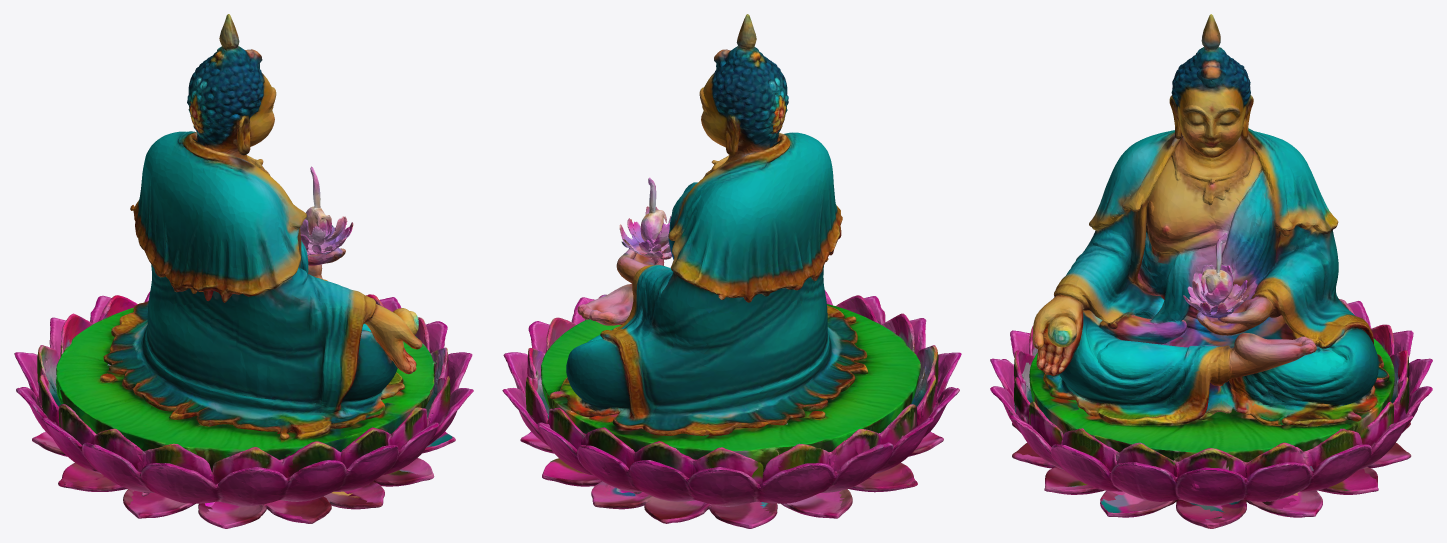
Rendered from fat-buddha.glb.
The picture shows the model from 3 angles, left to right: view 1: azimuth 30°, elevation 25°; view 2: azimuth 150°, elevation 25°; view 3: azimuth 270°, elevation 25°; orthographic projection. The views are drawn at different scales.
Parts seen in each view (by area): view 1: tripo_node_0a7d1150-ced9-443b-bede-8c5fd3c8d412; view 2: tripo_node_0a7d1150-ced9-443b-bede-8c5fd3c8d412; view 3: tripo_node_0a7d1150-ced9-443b-bede-8c5fd3c8d412.
Part boxes in pixels (x1,y1,x2,y2): tripo_node_0a7d1150-ced9-443b-bede-8c5fd3c8d412: (14, 14, 473, 528); tripo_node_0a7d1150-ced9-443b-bede-8c5fd3c8d412: (502, 14, 961, 528); tripo_node_0a7d1150-ced9-443b-bede-8c5fd3c8d412: (990, 14, 1432, 528).
Bounding box in the file's own units: 0.9457 × 0.9999 × 0.9301.
Materials: 1 (1 with a texture image).
